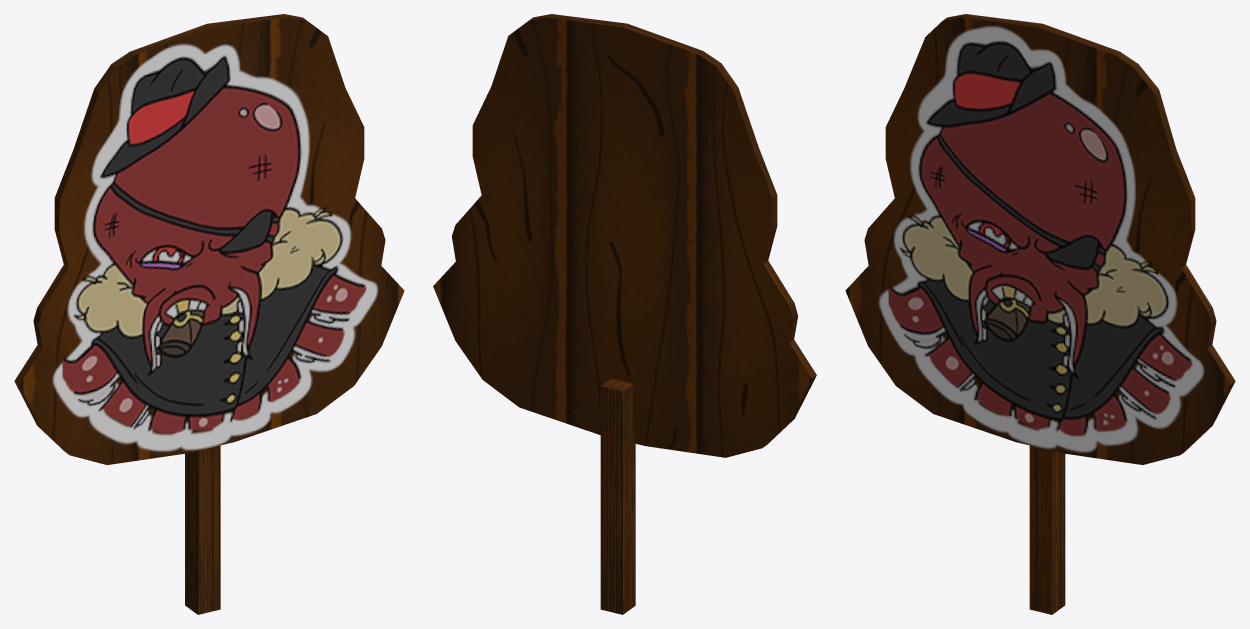
File: OctoHead_Hurt.fbx
3 views of the same model, side by side, from view 1: azimuth 30°, elevation 25°; view 2: azimuth 150°, elevation 25°; view 3: azimuth 330°, elevation 25° (orthographic).
Parts seen in each view (by area): view 1: Octopus_Balk22; view 2: Octopus_Balk22; view 3: Octopus_Balk22.
Boxes of the visible parts, bbox=[...] form: Octopus_Balk22: bbox=[14, 14, 404, 614]; Octopus_Balk22: bbox=[433, 14, 816, 614]; Octopus_Balk22: bbox=[845, 14, 1235, 614].
Bounding box in the file's own units: 47.71 × 69.44 × 3.38.
Materials: 2 (2 with a texture image).
